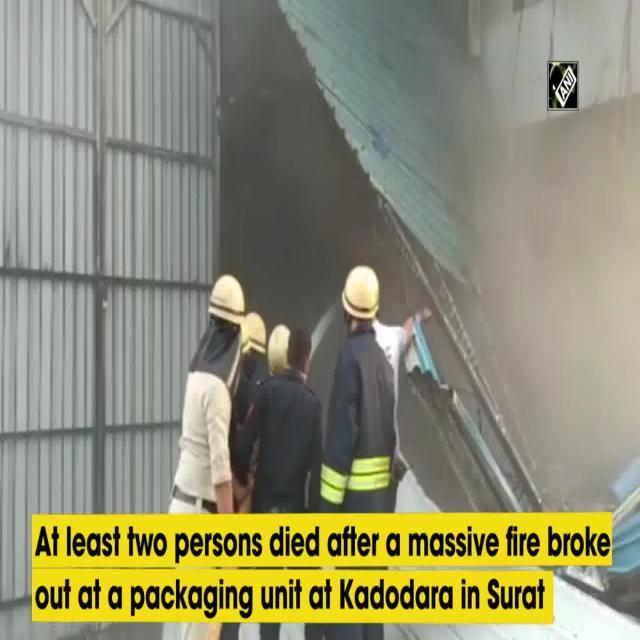Smoke: (510, 266, 624, 436)
